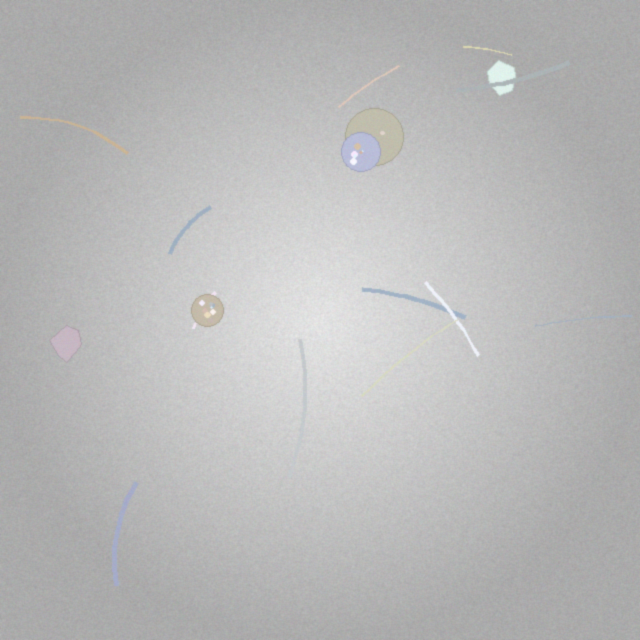fiber: (359, 318, 460, 399), (17, 114, 131, 157), (422, 279, 482, 360), (451, 58, 575, 96), (357, 285, 470, 323), (109, 476, 142, 591), (284, 335, 309, 482), (336, 64, 402, 110), (165, 203, 215, 258), (533, 314, 634, 330), (190, 289, 219, 332), (460, 44, 515, 57)
foam: (345, 108, 403, 166), (342, 132, 381, 171), (192, 295, 224, 327)
fragment: (49, 325, 82, 363), (488, 61, 516, 96)
